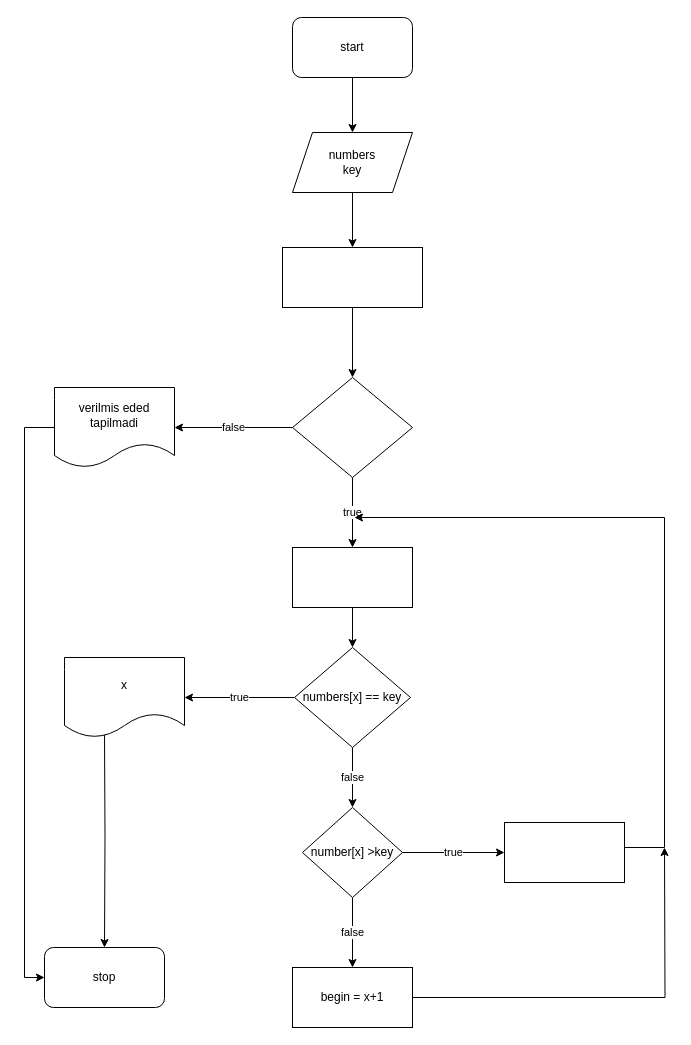
This 691x1045 diagram has some shape labels left out. The centre of each missing label's shape, as x and y in pixels:
"begin <= end" goes at point 352,427.
"begin = 0 end = numers.legth - 1" goes at point 352,277.
"end = x -1" goes at point 564,852.
"x = (begin+end)/2" goes at point 352,577.
